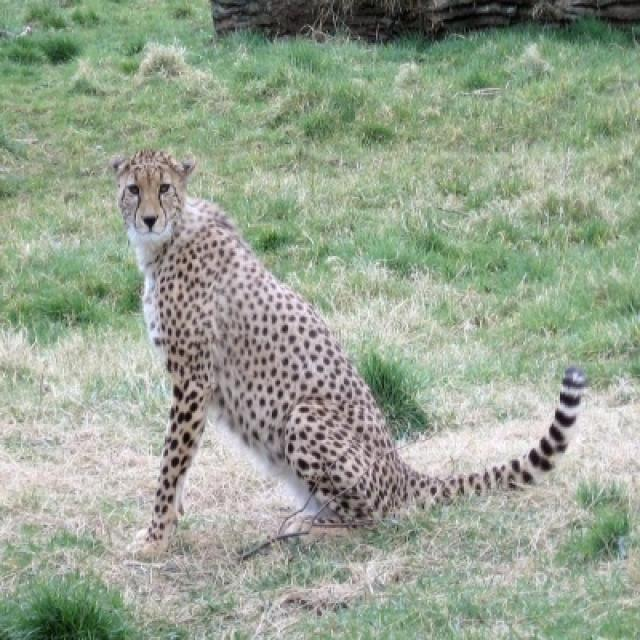Cheetah: (109, 149, 584, 560)
